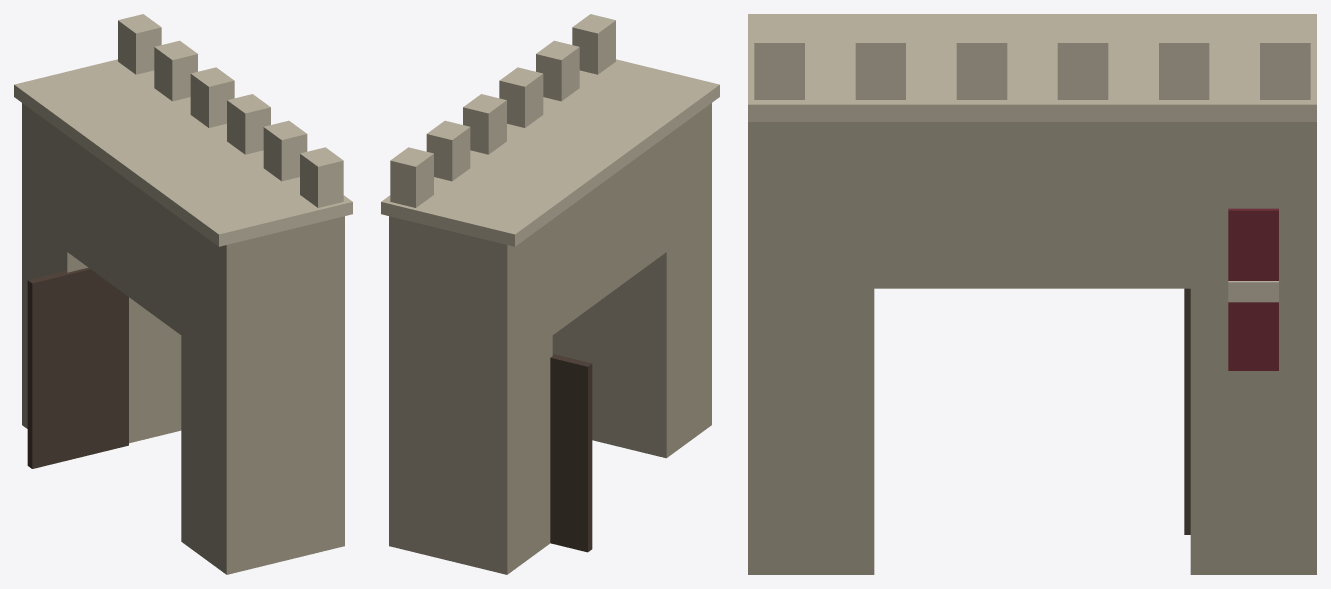
File: siege-gate.glb
3 views of the same model, side by side, from view 1: azimuth 30°, elevation 25°; view 2: azimuth 150°, elevation 25°; view 3: azimuth 270°, elevation 25° (orthographic). The views are drawn at different scales.
Parts seen in each view (by area): view 1: Mesh_RightPier, Mesh_TopWalk, Mesh_OpenGateLeaf, Mesh_LeftPier, Mesh_Lintel, Mesh_Crown5, Mesh_Crown4, Mesh_Crown2, Mesh_Crown1, Mesh_Crown0, Mesh_Crown3; view 2: Mesh_LeftPier, Mesh_RightPier, Mesh_TopWalk, Mesh_Lintel, Mesh_OpenGateLeaf, Mesh_Crown0, Mesh_Crown1, Mesh_Crown3, Mesh_Crown4, Mesh_Crown2, Mesh_Crown5; view 3: Mesh_RightPier, Mesh_Lintel, Mesh_LeftPier, Mesh_TopWalk, Mesh_BannerLeft, Mesh_Crown2, Mesh_Crown3, Mesh_Crown0, Mesh_Crown5, Mesh_Crown1, Mesh_Crown4, Mesh_OpenGateLeaf (+1 smaller).
Part boxes in pixels (<box>): Mesh_RightPier: <box>181,216,344,574</box>; Mesh_TopWalk: <box>14,59,352,246</box>; Mesh_OpenGateLeaf: <box>27,267,128,468</box>; Mesh_LeftPier: <box>22,103,181,443</box>; Mesh_Lintel: <box>67,136,181,334</box>; Mesh_Crown5: <box>300,147,343,207</box>; Mesh_Crown4: <box>263,120,307,181</box>; Mesh_Crown2: <box>190,67,234,127</box>; Mesh_Crown1: <box>154,40,197,101</box>; Mesh_Crown0: <box>118,14,161,74</box>; Mesh_Crown3: <box>227,94,270,154</box>; Mesh_LeftPier: <box>389,216,552,574</box>; Mesh_RightPier: <box>552,103,711,458</box>; Mesh_TopWalk: <box>381,59,719,246</box>; Mesh_Lintel: <box>552,136,666,334</box>; Mesh_OpenGateLeaf: <box>550,354,592,552</box>; Mesh_Crown0: <box>390,147,433,207</box>; Mesh_Crown1: <box>426,120,470,181</box>; Mesh_Crown3: <box>499,67,543,127</box>; Mesh_Crown4: <box>536,40,579,101</box>; Mesh_Crown2: <box>463,94,506,154</box>; Mesh_Crown5: <box>572,14,615,74</box>; Mesh_RightPier: <box>748,122,874,574</box>; Mesh_Lintel: <box>874,122,1190,288</box>; Mesh_LeftPier: <box>1190,122,1316,574</box>; Mesh_TopWalk: <box>748,14,1316,121</box>; Mesh_BannerLeft: <box>1228,208,1278,370</box>; Mesh_Crown2: <box>1057,25,1108,99</box>; Mesh_Crown3: <box>956,25,1007,99</box>; Mesh_Crown0: <box>1260,25,1310,99</box>; Mesh_Crown5: <box>754,25,804,99</box>; Mesh_Crown1: <box>1159,25,1209,99</box>; Mesh_Crown4: <box>855,25,905,99</box>; Mesh_OpenGateLeaf: <box>1184,288,1190,534</box>.
Size of the model in its own units: 4.15 by 9.3 by 9.
